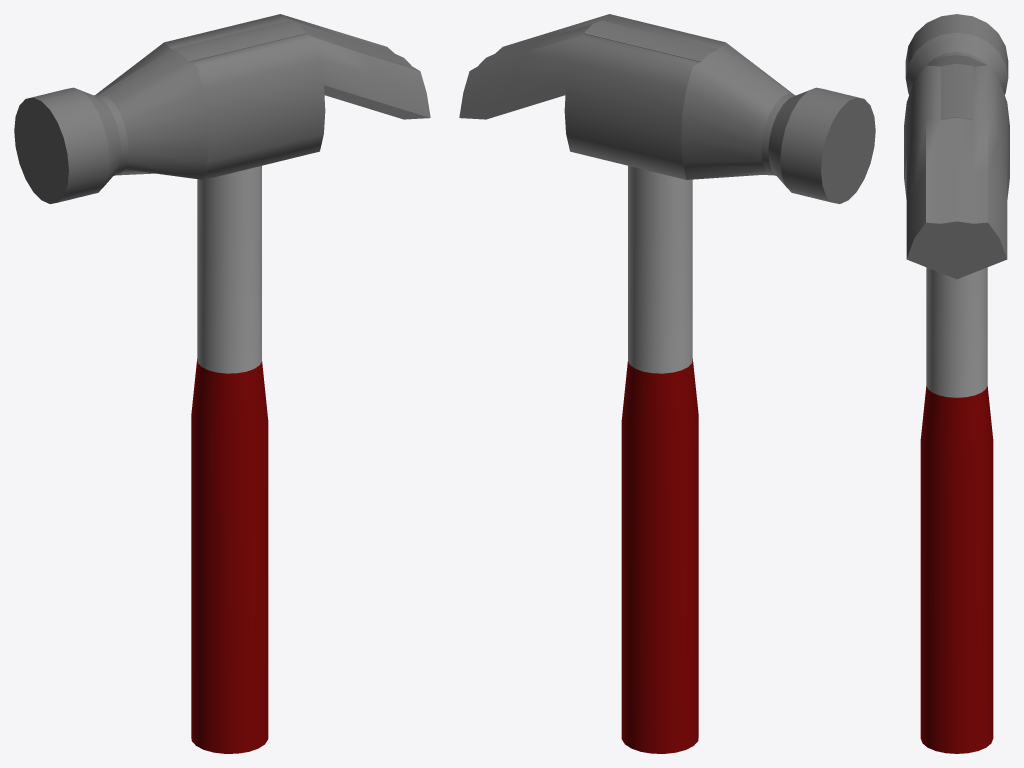
Rendered from Hammer.fbx.
3 renders of one model, left to right at view 1: azimuth 30°, elevation 25°; view 2: azimuth 150°, elevation 25°; view 3: azimuth 270°, elevation 25°, orthographic. The views are drawn at different scales.
Visible parts, largest first — view 1: pCylinder3; view 2: pCylinder3; view 3: pCylinder3.
Boxes of the visible parts, x1,y1,x2,y2 form: pCylinder3: (14, 14, 430, 753); pCylinder3: (459, 14, 875, 753); pCylinder3: (904, 14, 1009, 753).
Bounding box in the file's own units: 3.47 × 6.37 × 0.9375.
